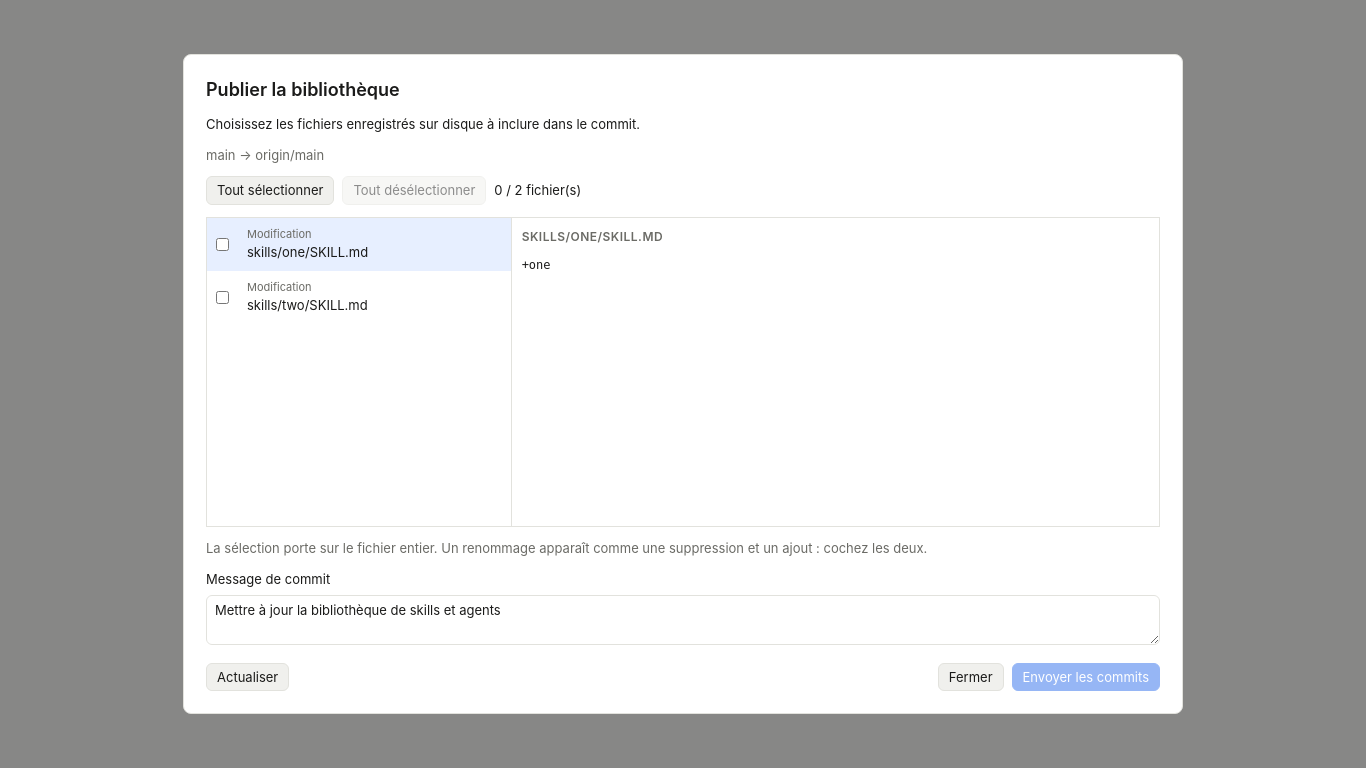
Test: publication › retries a failed push without creating another commit
Step 1. Click the checkbox named "Inclure skills/one/SKILL.md" → [222, 245], box [216,238,229,251]
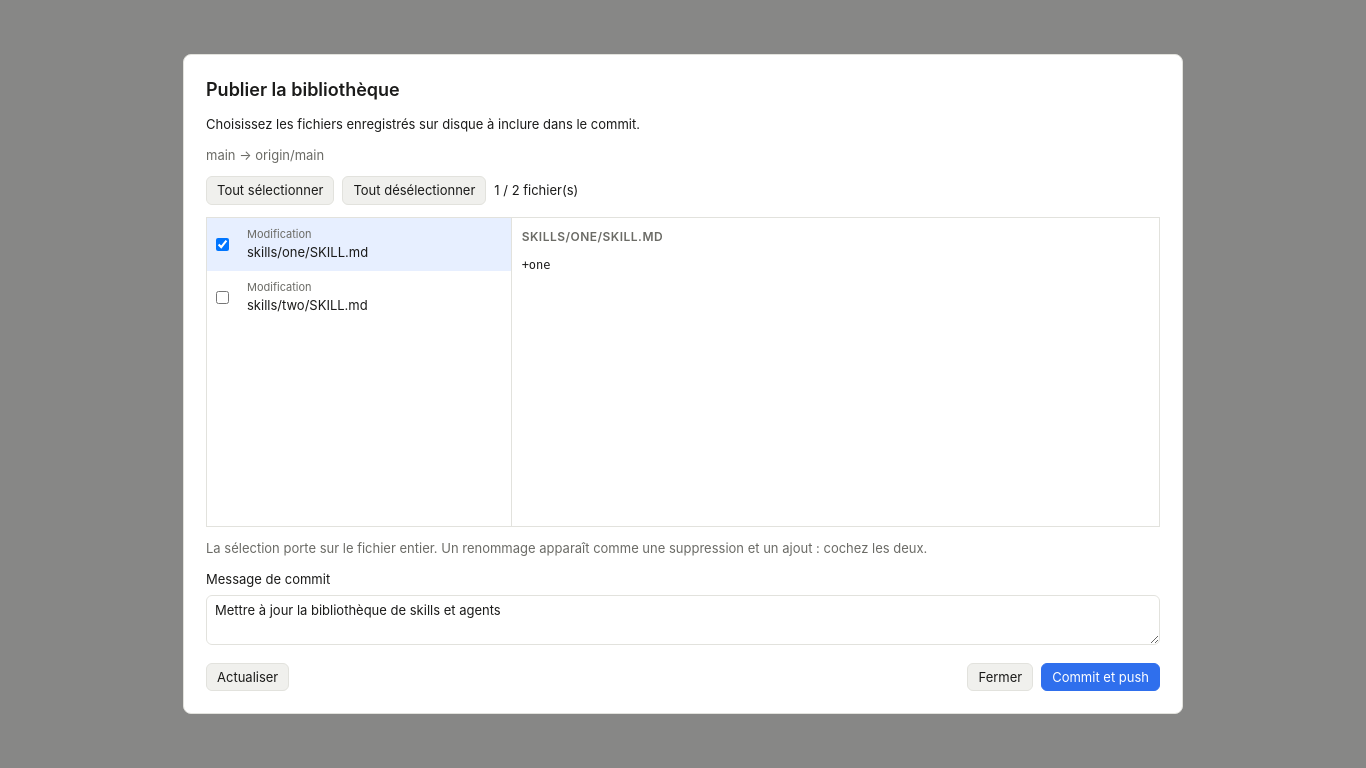
Step 2. Click the button "Commit et push" → [1101, 677], box [1041,663,1160,691]
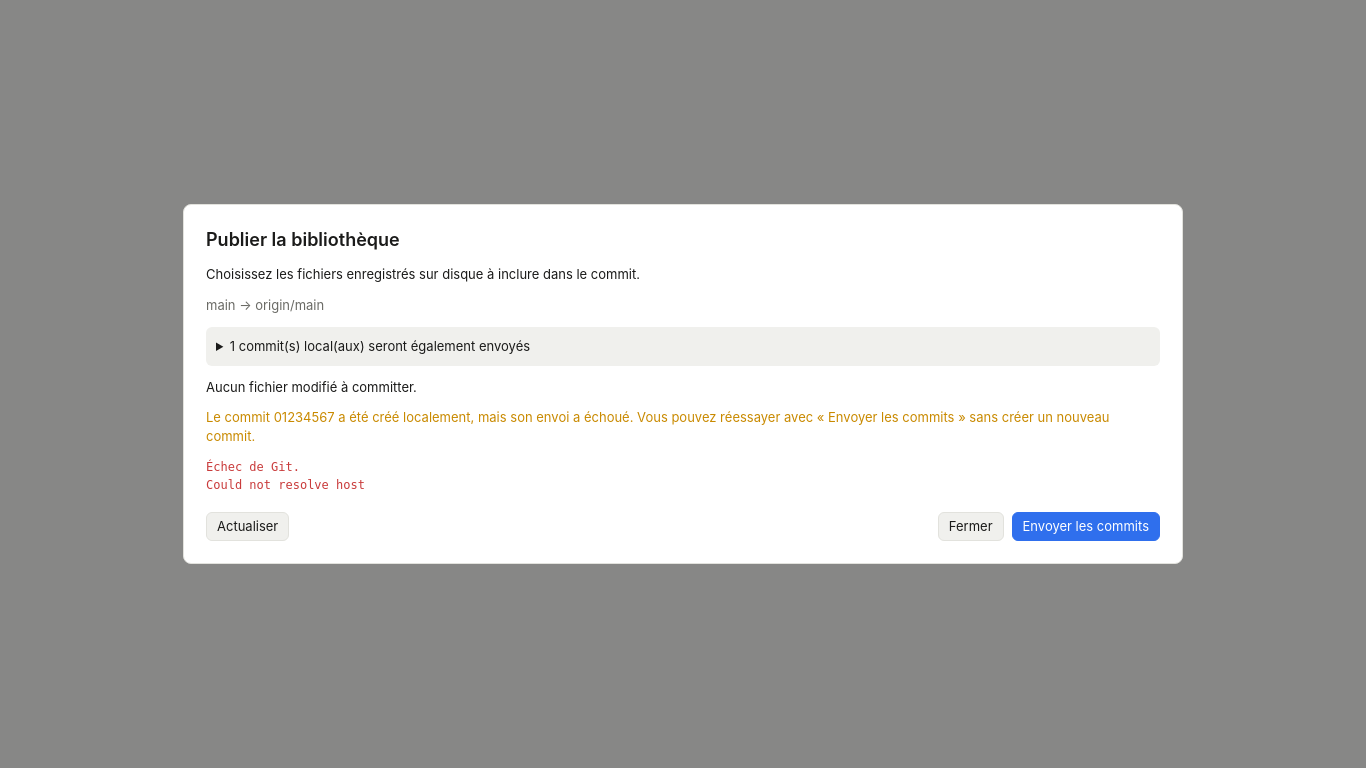
Result: the text "a été créé localement, mais son envoi a échoué" is shown at [206,410,1110,444]
Result: the heading "1 commit(s) local(aux) seront également envoyés" is shown at [230,338,530,354]
Step 3. Click the button "Envoyer les commits" → [1086, 527], box [1012,512,1160,541]
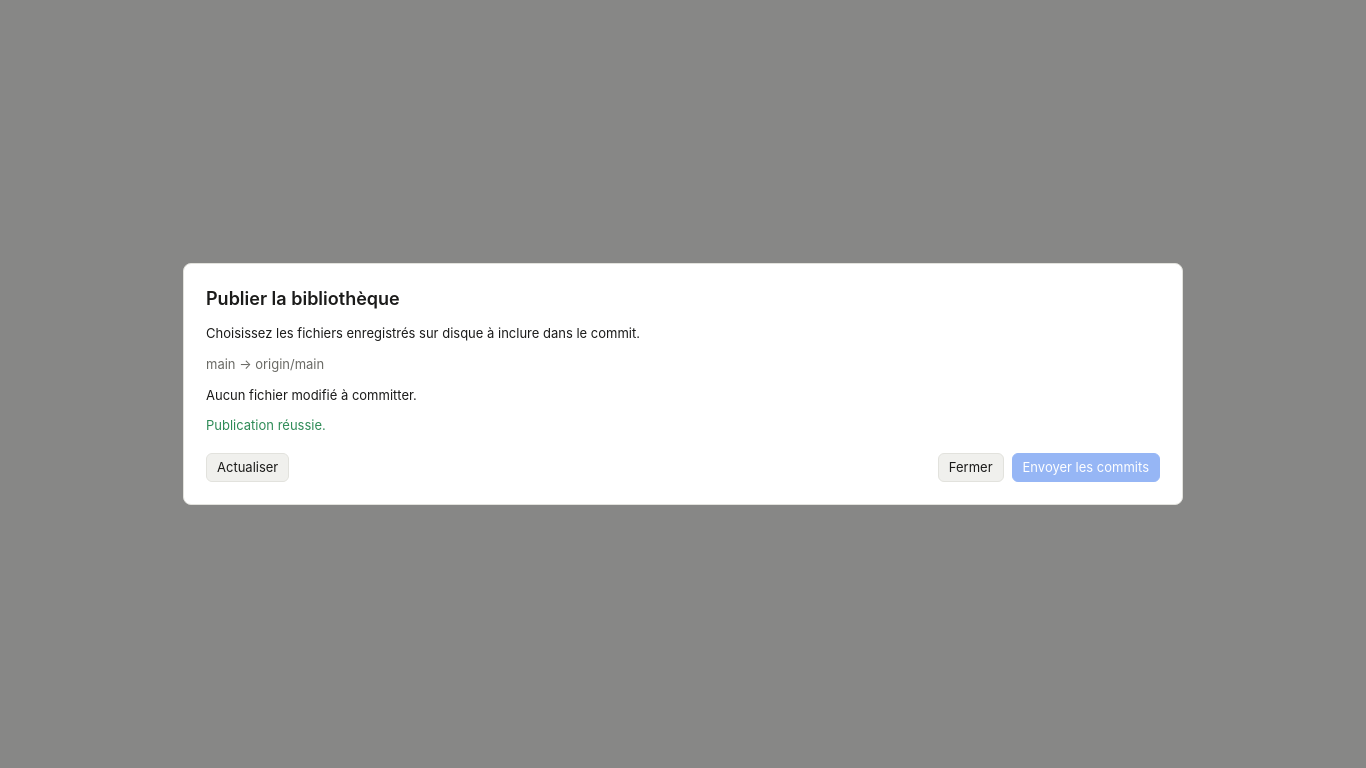
Result: the text "Publication réussie." is shown at [206,418,326,434]
